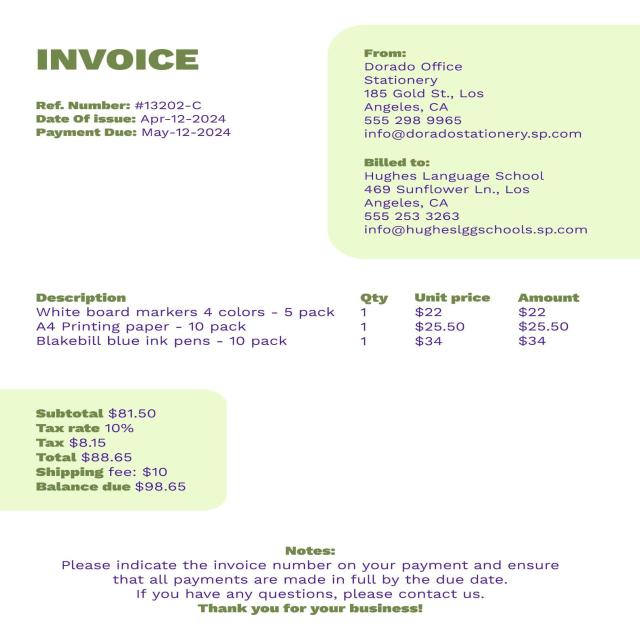paragraph: (37, 528, 574, 622), (347, 45, 595, 143), (346, 152, 601, 245), (16, 393, 209, 505), (21, 91, 244, 145), (29, 41, 215, 77)
table: (17, 284, 595, 357)
